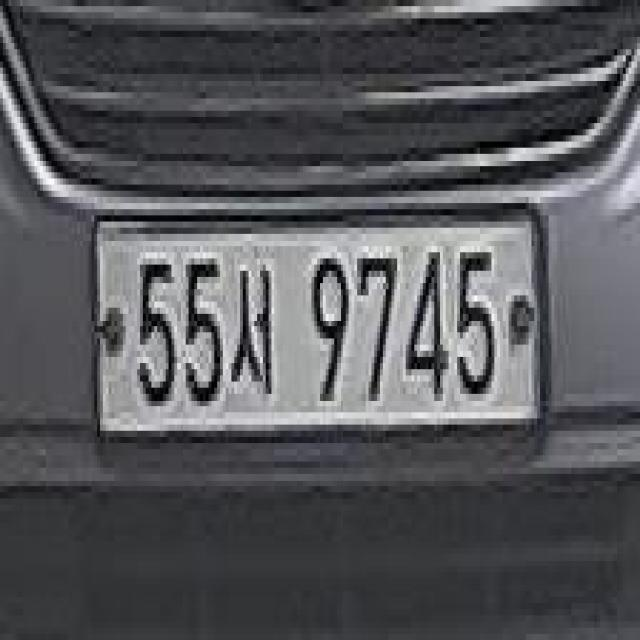4: (406, 238, 449, 402)
5: (133, 254, 181, 412), (454, 245, 499, 396), (184, 250, 227, 404)
7: (354, 244, 402, 402)
9: (308, 244, 350, 406)
license_plate: (86, 196, 554, 452)
seo: (230, 258, 278, 399)
